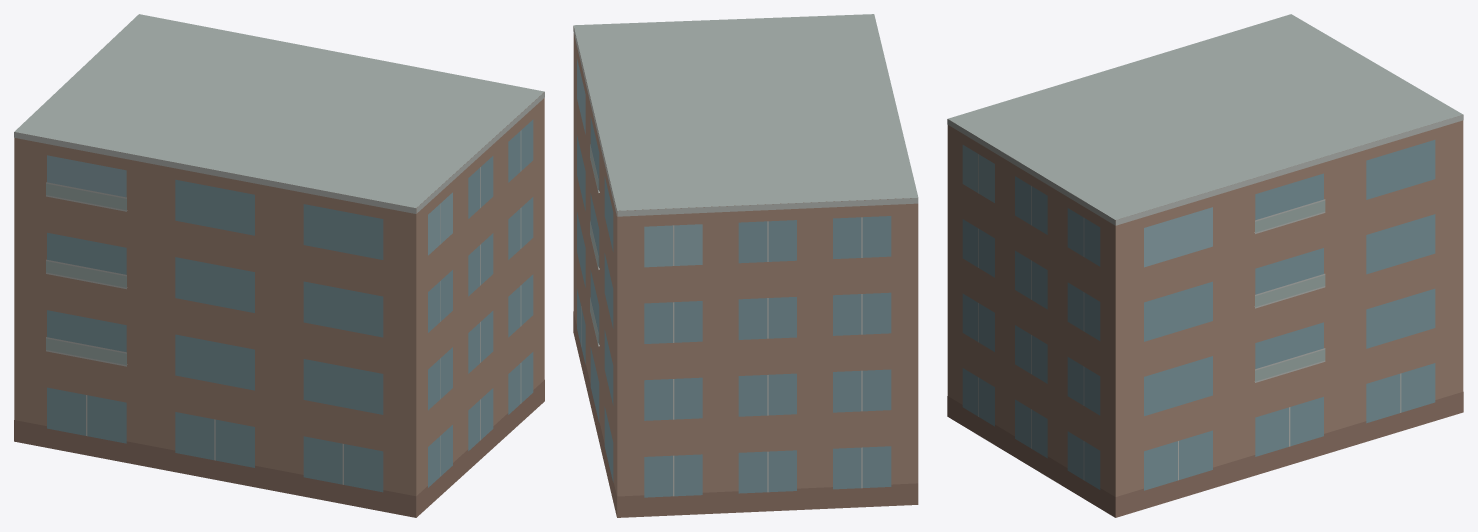
File: survey-upis-32804258.glb
3 views of the same model, side by side, from view 1: azimuth 30°, elevation 25°; view 2: azimuth 150°, elevation 25°; view 3: azimuth 270°, elevation 25° (orthographic). The views are drawn at different scales.
Parts seen in each view (by area): view 1: survey-upis-32804258.tmp; view 2: survey-upis-32804258.tmp; view 3: survey-upis-32804258.tmp.
Boxes of the visible parts, x1,y1,x2,y2 form: survey-upis-32804258.tmp: [14, 14, 544, 517]; survey-upis-32804258.tmp: [573, 14, 918, 517]; survey-upis-32804258.tmp: [947, 14, 1463, 517].
Bounding box in the file's own units: 19.01 × 12.8 × 20.11.
